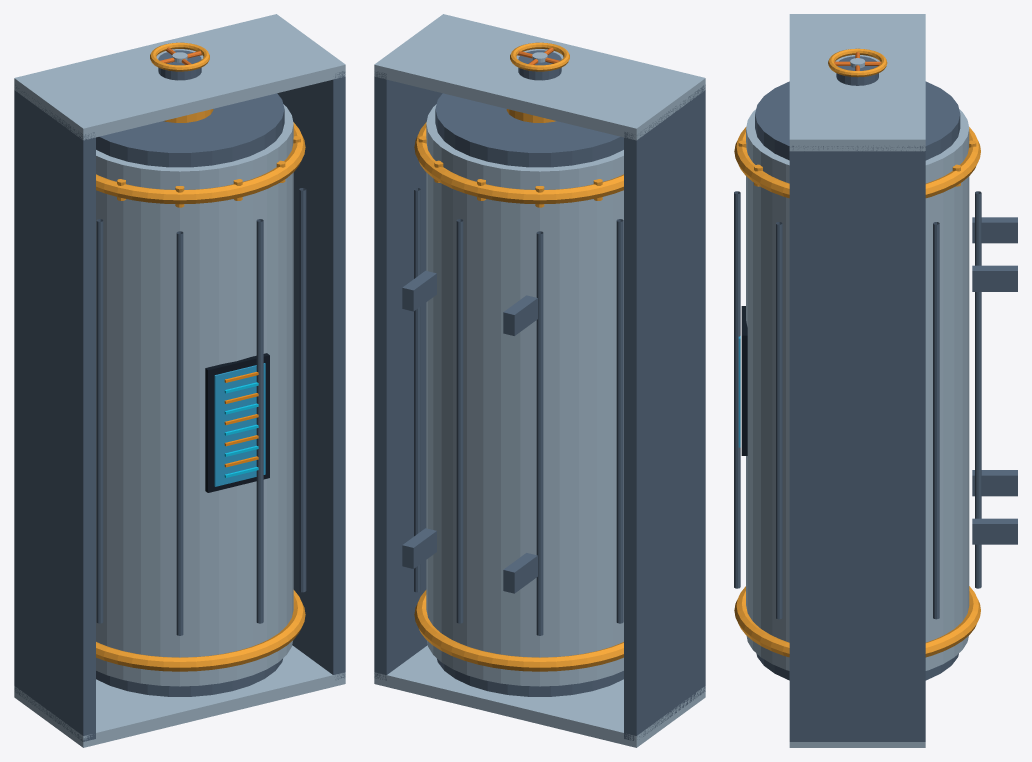
Rendered from 12_L88_DualAdsorberTowerA.fbx.
3 views of the same model, side by side, from view 1: azimuth 30°, elevation 25°; view 2: azimuth 150°, elevation 25°; view 3: azimuth 270°, elevation 25° (orthographic).
Parts seen in each view (by area): view 1: L87_DualAdsorberTowerA_Part_0000, L87_DualAdsorberTowerA_Part_0001, L87_DualAdsorberTowerA_Part_0002, L87_DualAdsorberTowerA_Part_0004, L87_DualAdsorberTowerA_Part_0003, L87_DualAdsorberTowerA_Part_0009, L87_DualAdsorberTowerA_Part_0006, L87_DualAdsorberTowerA_Part_0005; view 2: L87_DualAdsorberTowerA_Part_0000, L87_DualAdsorberTowerA_Part_0001, L87_DualAdsorberTowerA_Part_0002, L87_DualAdsorberTowerA_Part_0009; view 3: L87_DualAdsorberTowerA_Part_0001, L87_DualAdsorberTowerA_Part_0000, L87_DualAdsorberTowerA_Part_0002, L87_DualAdsorberTowerA_Part_0003, L87_DualAdsorberTowerA_Part_0009.
Part boxes in pixels (bbox=[...]): L87_DualAdsorberTowerA_Part_0000: bbox=[14, 14, 345, 747]; L87_DualAdsorberTowerA_Part_0001: bbox=[14, 50, 345, 741]; L87_DualAdsorberTowerA_Part_0002: bbox=[96, 109, 305, 671]; L87_DualAdsorberTowerA_Part_0004: bbox=[214, 363, 265, 486]; L87_DualAdsorberTowerA_Part_0003: bbox=[205, 353, 269, 492]; L87_DualAdsorberTowerA_Part_0009: bbox=[150, 42, 209, 71]; L87_DualAdsorberTowerA_Part_0006: bbox=[224, 372, 258, 467]; L87_DualAdsorberTowerA_Part_0005: bbox=[224, 382, 258, 477]; L87_DualAdsorberTowerA_Part_0000: bbox=[374, 14, 705, 747]; L87_DualAdsorberTowerA_Part_0001: bbox=[374, 50, 705, 740]; L87_DualAdsorberTowerA_Part_0002: bbox=[414, 109, 623, 671]; L87_DualAdsorberTowerA_Part_0009: bbox=[510, 42, 569, 71]; L87_DualAdsorberTowerA_Part_0001: bbox=[734, 56, 1017, 741]; L87_DualAdsorberTowerA_Part_0000: bbox=[746, 14, 969, 747]; L87_DualAdsorberTowerA_Part_0002: bbox=[734, 127, 980, 657]; L87_DualAdsorberTowerA_Part_0003: bbox=[741, 306, 747, 455]; L87_DualAdsorberTowerA_Part_0009: bbox=[828, 48, 887, 77].
Size of the model in its own units: 208 by 482 by 198.
